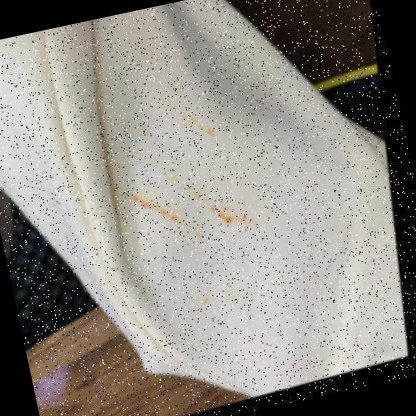kimchi: (122, 186, 152, 214), (188, 111, 213, 137), (214, 205, 241, 228), (154, 203, 178, 228), (203, 288, 219, 305)
